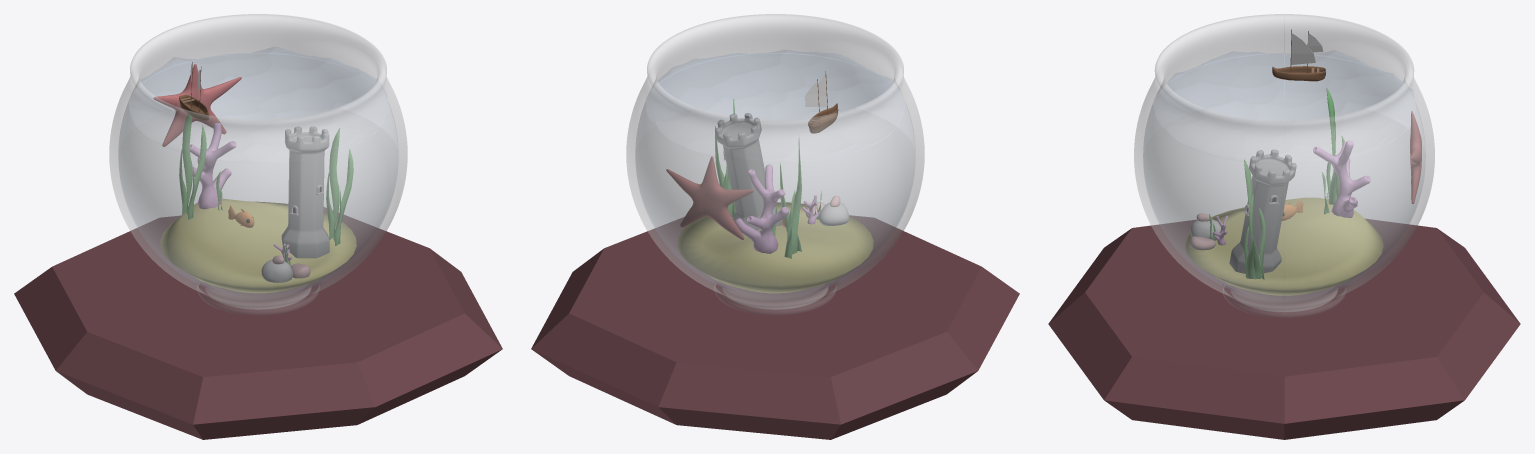
File: fish_in_a_bowl.glb
3 views of the same model, side by side, from view 1: azimuth 30°, elevation 25°; view 2: azimuth 150°, elevation 25°; view 3: azimuth 270°, elevation 25° (orthographic).
Parts seen in each view (by area): view 1: bol, Cube, nisip, Tower, Plane.002, coral _0, alge.001, alge, Water Surface Displaced, Icosphere, Plane.005; view 2: bol, Cube, nisip, Tower, Plane.002, coral _0, alge, Water Surface Displaced, Icosphere, Plane.005; view 3: bol, Cube, nisip, Tower, coral _0, alge.001, Water Surface Displaced, Plane.002, alge, Plane.005, Cube.003, water.
Part boxes in pixels (left/top/right/bottom): bol: left=109, top=14, right=407, bottom=315; Cube: left=14, top=207, right=502, bottom=439; nisip: left=160, top=198, right=356, bottom=293; Tower: left=281, top=126, right=329, bottom=258; Plane.002: left=153, top=64, right=241, bottom=146; coral _0: left=189, top=122, right=236, bottom=209; alge.001: left=326, top=128, right=353, bottom=245; alge: left=179, top=114, right=206, bottom=219; Water Surface Displaced: left=129, top=47, right=387, bottom=101; Icosphere: left=261, top=259, right=293, bottom=282; Plane.005: left=179, top=94, right=209, bottom=120; bol: left=626, top=14, right=924, bottom=315; Cube: left=531, top=215, right=1019, bottom=439; nisip: left=677, top=202, right=873, bottom=293; Tower: left=715, top=113, right=782, bottom=229; Plane.002: left=666, top=156, right=753, bottom=239; coral _0: left=735, top=164, right=788, bottom=253; alge: left=780, top=136, right=801, bottom=258; Water Surface Displaced: left=646, top=50, right=904, bottom=100; Icosphere: left=819, top=202, right=849, bottom=225; Plane.005: left=808, top=103, right=838, bottom=133; bol: left=1134, top=14, right=1434, bottom=317; Cube: left=1048, top=219, right=1520, bottom=439; nisip: left=1185, top=197, right=1383, bottom=295; Tower: left=1229, top=149, right=1296, bottom=273; coral _0: left=1313, top=140, right=1370, bottom=217; alge.001: left=1244, top=159, right=1265, bottom=279; Water Surface Displaced: left=1153, top=50, right=1414, bottom=119; Plane.002: left=1410, top=111, right=1421, bottom=203; alge: left=1326, top=88, right=1344, bottom=204; Plane.005: left=1272, top=66, right=1325, bottom=81; Cube.003: left=1291, top=33, right=1315, bottom=64; water: left=1145, top=181, right=1423, bottom=294.
Size of the model in its own units: 3.1 by 2.17 by 3.1.
